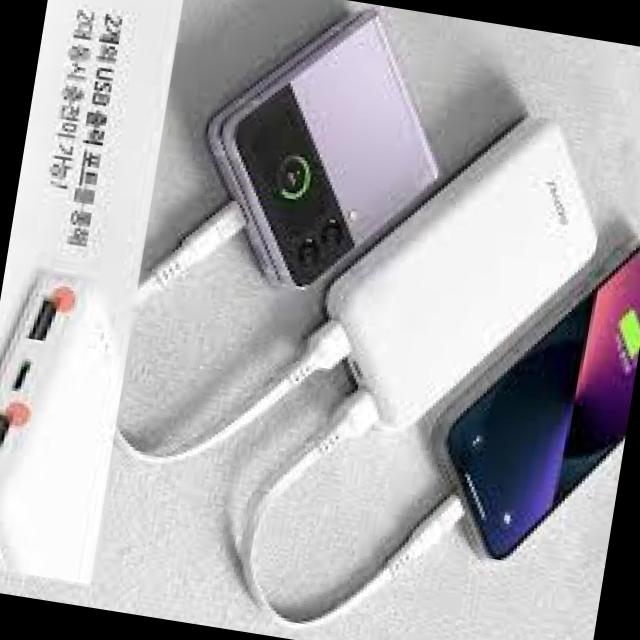portable-charger: (305, 86, 615, 465)
